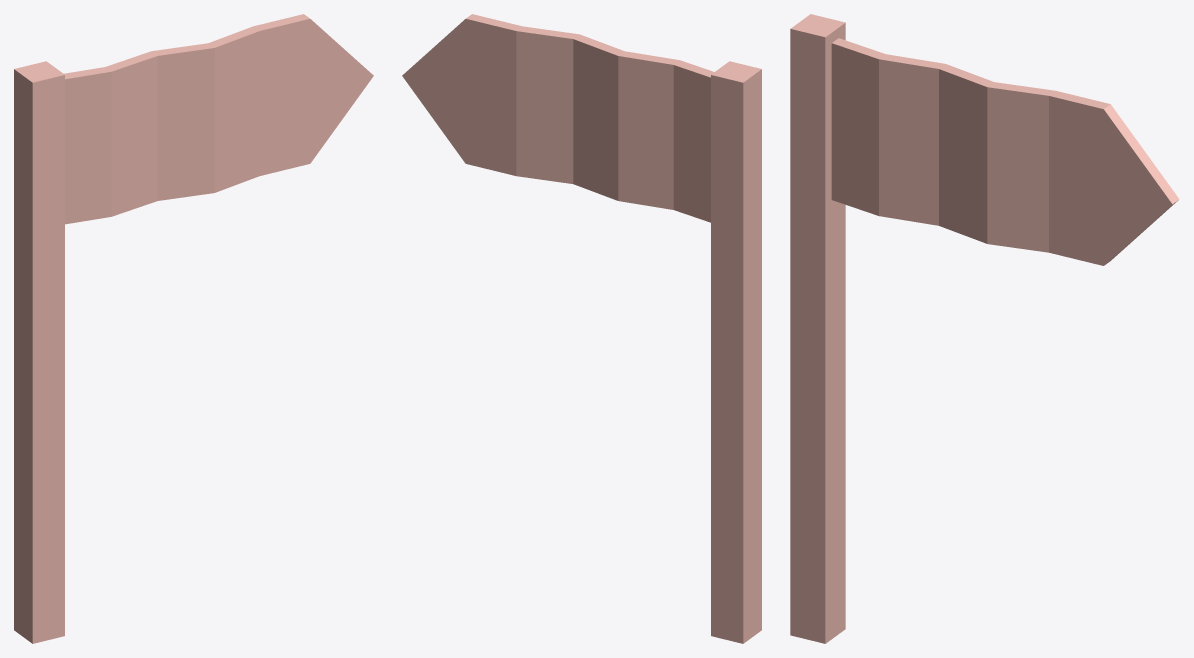
Rendered from Mega_Asset_s_Pack_Cube_024.FBX.
3 views of the same model, side by side, from view 1: azimuth 30°, elevation 25°; view 2: azimuth 150°, elevation 25°; view 3: azimuth 330°, elevation 25° (orthographic). The views are drawn at different scales.
Visible parts, largest first — view 1: Mega_Asset_s_Pack_Cube_024; view 2: Mega_Asset_s_Pack_Cube_024; view 3: Mega_Asset_s_Pack_Cube_024.
Part boxes in pixels (left/top/right/bottom): Mega_Asset_s_Pack_Cube_024: left=14, top=14, right=373, bottom=643; Mega_Asset_s_Pack_Cube_024: left=402, top=14, right=761, bottom=643; Mega_Asset_s_Pack_Cube_024: left=790, top=14, right=1179, bottom=643.
Size of what is drawn, in the model's own units: 130 by 12.1 by 200.
